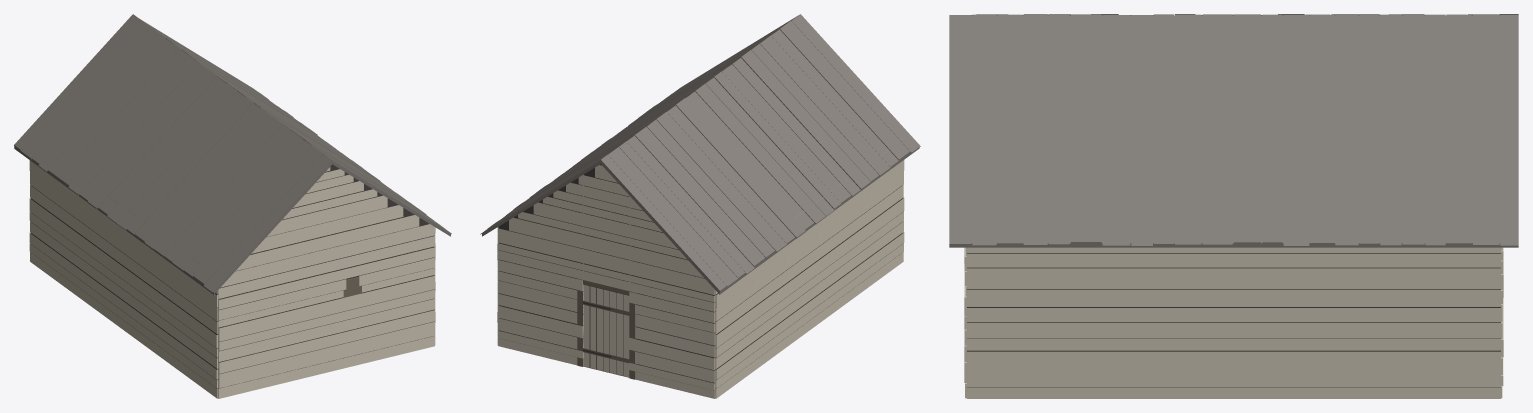
Rendered from recon_1835_blk_washington_dearborn_w2_10__inferred_1835.glb.
3 renders of one model, left to right at view 1: azimuth 30°, elevation 25°; view 2: azimuth 150°, elevation 25°; view 3: azimuth 270°, elevation 25°, orthographic. The views are drawn at different scales.
Parts seen in each view (by area): view 1: recon_1835_blk_washington_dearborn_w2_10__inferred_1835; view 2: recon_1835_blk_washington_dearborn_w2_10__inferred_1835; view 3: recon_1835_blk_washington_dearborn_w2_10__inferred_1835.
Boxes of the visible parts, x1=… form: recon_1835_blk_washington_dearborn_w2_10__inferred_1835: x1=14, y1=14, x2=451, y2=398; recon_1835_blk_washington_dearborn_w2_10__inferred_1835: x1=480, y1=14, x2=920, y2=398; recon_1835_blk_washington_dearborn_w2_10__inferred_1835: x1=949, y1=14, x2=1518, y2=398.
Bounding box in the file's own units: 7 × 6.01 × 10.04.
